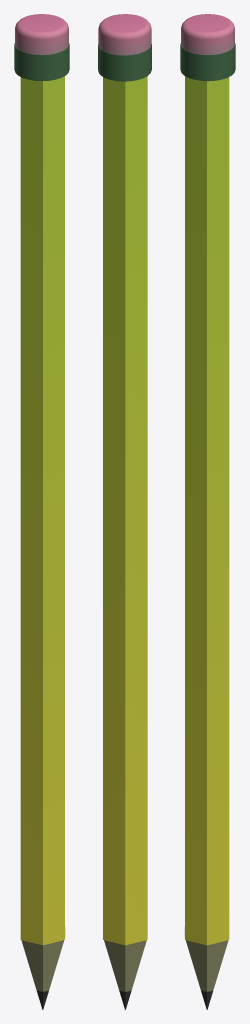
The picture shows the model from 3 angles, left to right: view 1: azimuth 90°, elevation 25°; view 2: azimuth 150°, elevation 25°; view 3: azimuth 270°, elevation 25°; orthographic projection.
Visible parts, largest first — view 1: shaft, eraser, collar, wood; view 2: shaft, eraser, collar, wood; view 3: shaft, eraser, collar, wood.
Boxes of the visible parts, left/top/right/bottom form: shaft: left=20, top=76, right=64, bottom=945; eraser: left=15, top=14, right=68, bottom=54; collar: left=14, top=43, right=69, bottom=81; wood: left=21, top=926, right=65, bottom=991; shaft: left=103, top=76, right=147, bottom=945; eraser: left=98, top=14, right=151, bottom=55; collar: left=98, top=44, right=151, bottom=81; wood: left=104, top=939, right=146, bottom=991; shaft: left=185, top=76, right=229, bottom=945; eraser: left=181, top=14, right=234, bottom=54; collar: left=180, top=43, right=235, bottom=81; wood: left=184, top=926, right=228, bottom=991.
Size of the model in its own units: 0.0093 by 0.19 by 0.0096.
